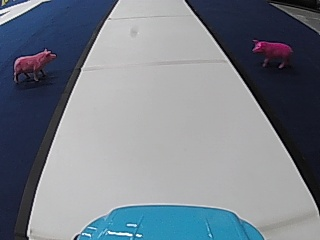pig: (10, 46, 55, 84), (250, 36, 292, 68)
